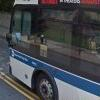buses: (6, 0, 98, 99)
